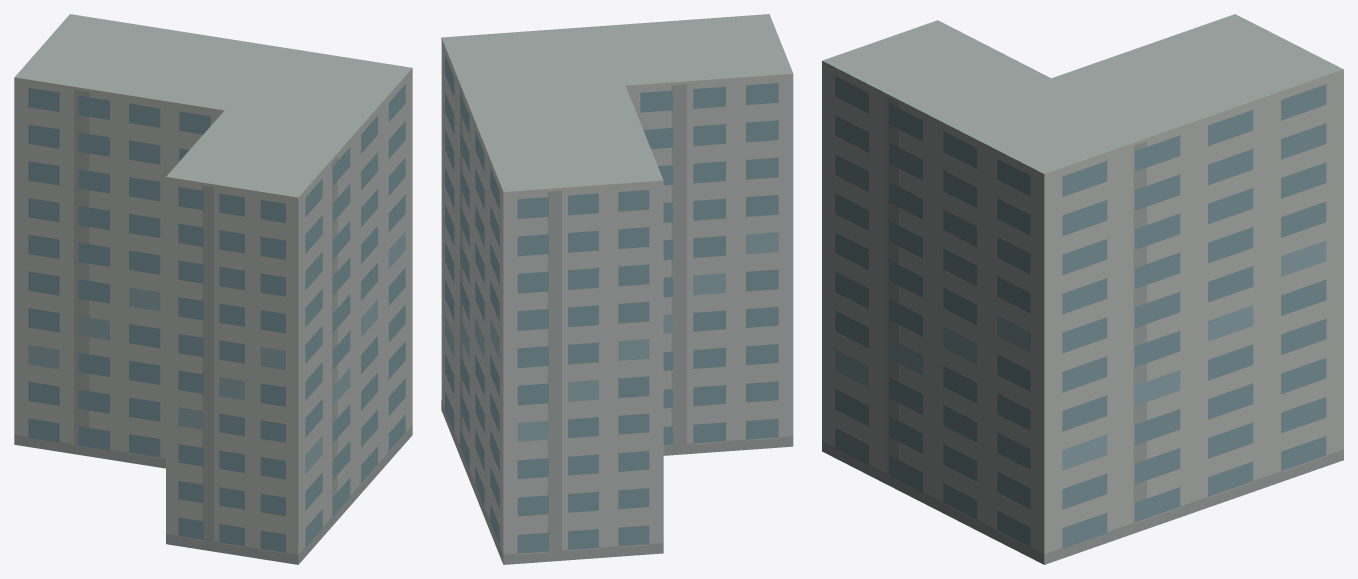
The model's file is residential-db8a5a8c-fbfd-40b4-a5c7-e55856e9ae60.glb.
3 views of the same model, side by side, from view 1: azimuth 30°, elevation 25°; view 2: azimuth 150°, elevation 25°; view 3: azimuth 270°, elevation 25° (orthographic). The views are drawn at different scales.
Visible parts, largest first — view 1: residential-db8a5a8c-fbfd-40b4-a5c7-e55856e9ae60.tmp; view 2: residential-db8a5a8c-fbfd-40b4-a5c7-e55856e9ae60.tmp; view 3: residential-db8a5a8c-fbfd-40b4-a5c7-e55856e9ae60.tmp.
Boxes of the visible parts, x1=… form: residential-db8a5a8c-fbfd-40b4-a5c7-e55856e9ae60.tmp: x1=14, y1=14, x2=412, y2=564; residential-db8a5a8c-fbfd-40b4-a5c7-e55856e9ae60.tmp: x1=441, y1=14, x2=793, y2=564; residential-db8a5a8c-fbfd-40b4-a5c7-e55856e9ae60.tmp: x1=822, y1=14, x2=1343, y2=564.
Size of the model in its own units: 26.37 by 30 by 36.31.
